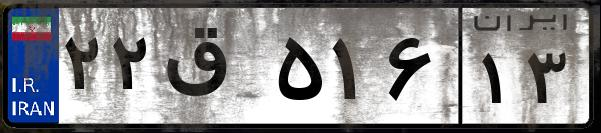1: (330, 28, 385, 110), (475, 38, 525, 113)
2: (57, 26, 110, 100), (110, 28, 158, 98)
3: (525, 38, 570, 115)
5: (270, 28, 330, 110)
6: (385, 28, 445, 110)
ق: (158, 20, 270, 120)
